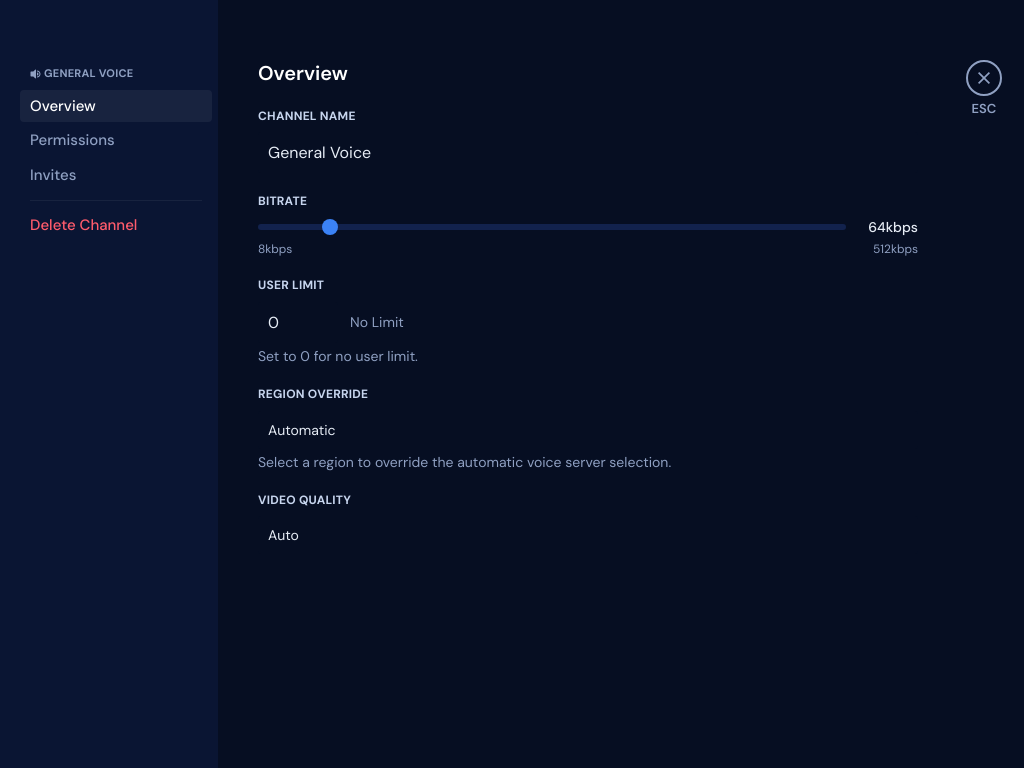
ChannelSettings › voice channel settings › clamps user limit between 0 and 99
Step 1. Replace the text in the number field labelled "USER LIMIT" with "150" → {"x": 298, "y": 322}, box [258,302,338,343]
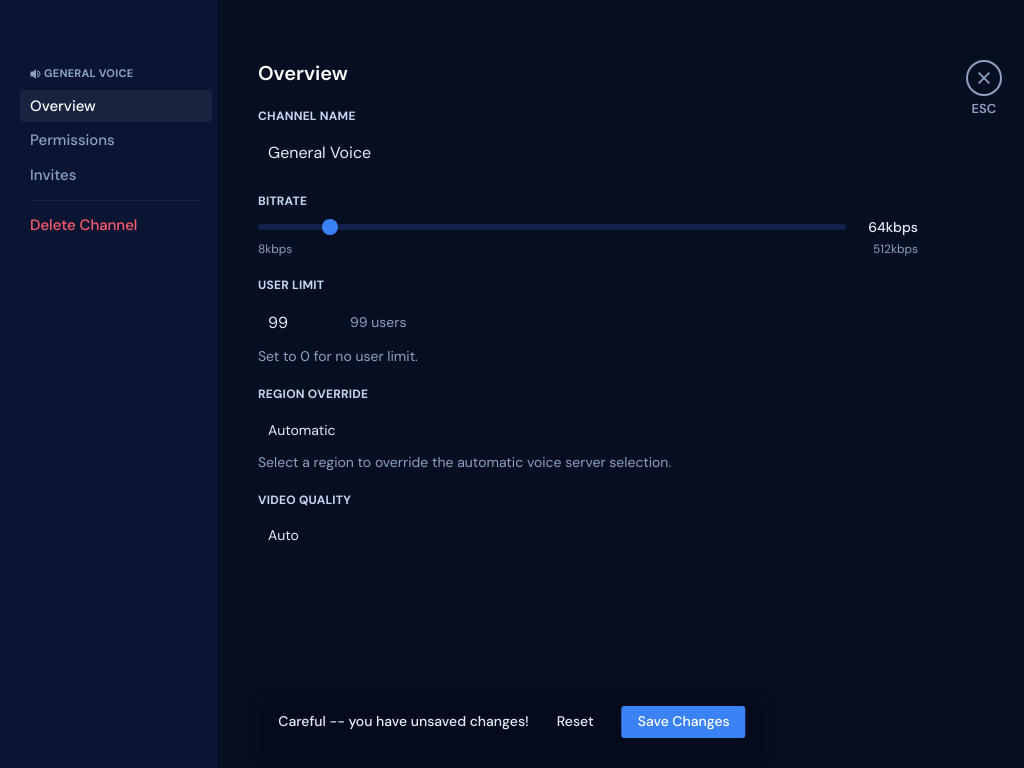
Check: the number field labelled "USER LIMIT" holds "99", box [258,302,338,343]
